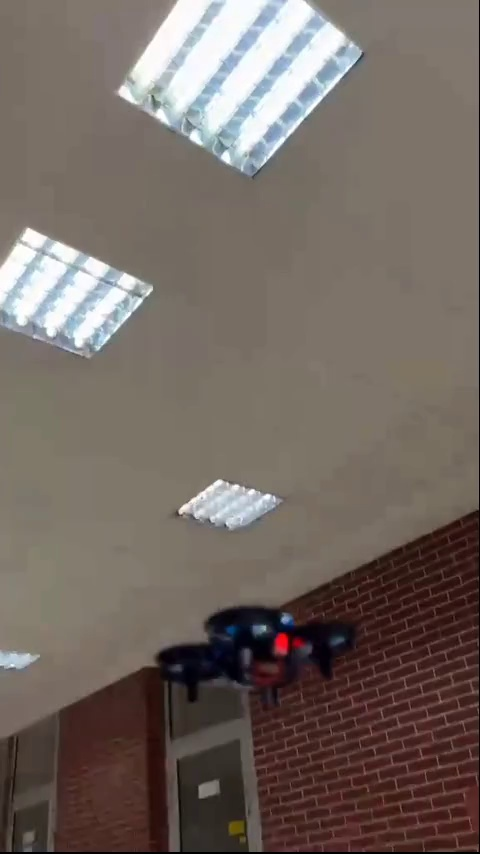drone: (159, 608, 350, 710)
